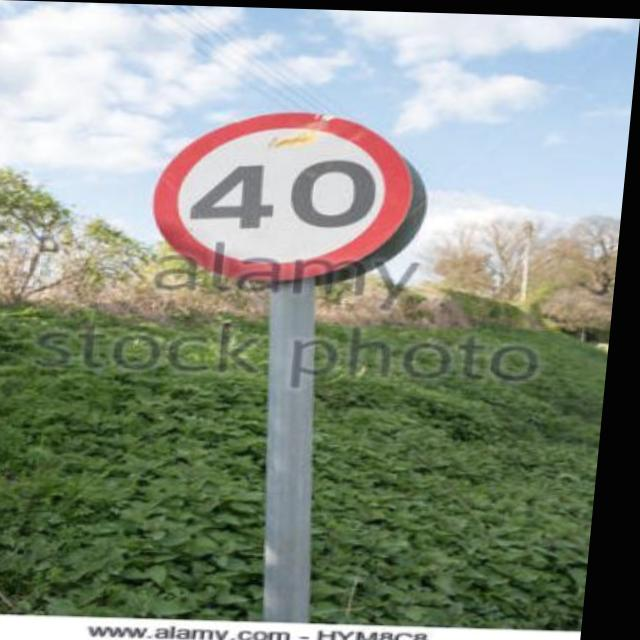limit40: (150, 101, 442, 287)
